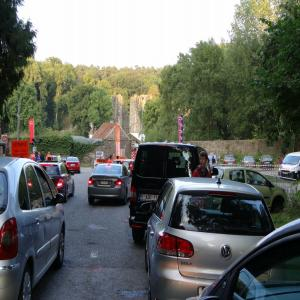Vehicle-registration-plate: (140, 195, 162, 205), (101, 181, 110, 186), (71, 164, 77, 168), (283, 171, 289, 175), (228, 163, 234, 166), (266, 162, 270, 165)
